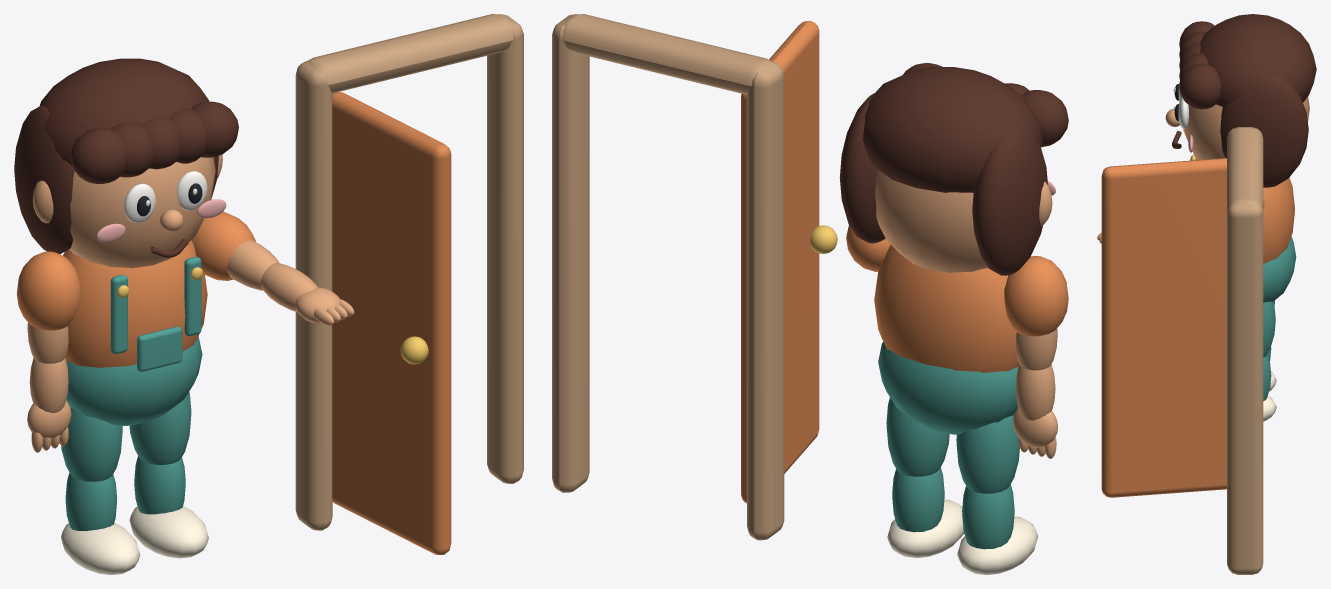
File: ava-opposite-open.glb
3 views of the same model, side by side, from view 1: azimuth 30°, elevation 25°; view 2: azimuth 150°, elevation 25°; view 3: azimuth 270°, elevation 25° (orthographic). The views are drawn at different scales.
Visible parts, largest first — view 1: door, door frame.001, door frame, soft shirt, hair cap, clay head, door frame.002, overalls, bob hair, shirt sleeve, trouser leg, little shoe (+23 smaller); view 2: door, door frame, door frame.001, hair cap, soft shirt, bob hair, door frame.002, overalls, clay head, shirt sleeve, trouser leg, bob hair.001 (+11 smaller); view 3: door, door frame.001, hair cap, bob hair.001, door frame.002, soft shirt, clay head, fringe.004, overalls, trouser leg.001, fringe, lower leg.001 (+1 smaller).
Boxes of the visible parts, x1,y1,x2,y2 form: door: (332,92,451,554); door frame.001: (487,14,523,483); door frame: (295,61,332,530); soft shirt: (63,240,207,367); hair cap: (39,58,209,165); clay head: (69,157,215,268); door frame.002: (306,14,512,93); overalls: (66,336,202,425); bob hair: (14,105,74,254); shirt sleeve: (17,251,79,330); trouser leg: (61,408,122,481); little shoe: (61,522,140,574); door: (741,21,819,503); door frame: (747,61,784,540); door frame.001: (552,14,589,492); hair cap: (863,67,1042,192); soft shirt: (874,245,1019,372); bob hair: (972,128,1047,275); door frame.002: (563,14,773,94); overalls: (878,342,1018,434); clay head: (875,169,987,272); shirt sleeve: (1004,256,1068,336); trouser leg: (956,413,1019,493); bob hair.001: (839,93,885,243); door: (1101,158,1227,497); door frame.001: (1227,204,1263,574); hair cap: (1200,14,1316,106); bob hair.001: (1220,74,1308,187); door frame.002: (1227,127,1263,211); soft shirt: (1263,177,1294,263); clay head: (1183,96,1309,159); fringe.004: (1179,63,1220,109); overalls: (1263,236,1296,302); trouser leg.001: (1263,301,1275,357); fringe: (1179,21,1214,48); lower leg.001: (1263,354,1271,401).
Size of the model in its own units: 2.03 by 1.95 by 0.9655.
